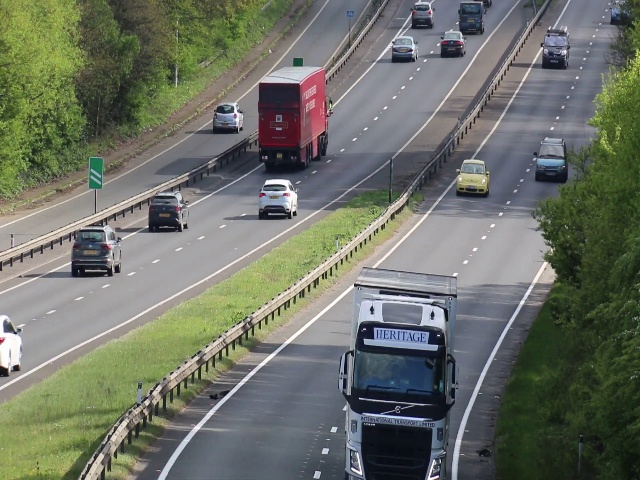car: (347, 335, 451, 480), (69, 223, 120, 279), (257, 175, 296, 220), (149, 189, 187, 232), (534, 136, 569, 181), (1, 311, 24, 372), (458, 155, 485, 196), (213, 101, 243, 133), (457, 1, 485, 35), (542, 32, 568, 67), (390, 33, 417, 61), (441, 29, 464, 57), (413, 1, 432, 31)
